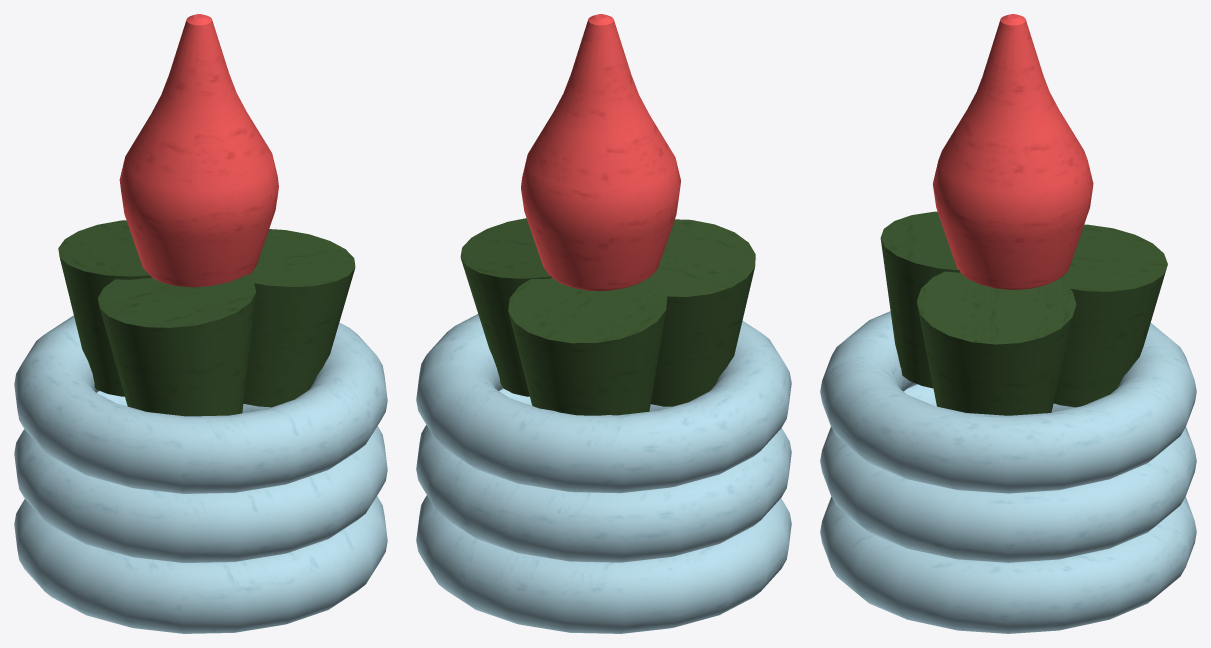
File: plant1.fbx
3 renders of one model, left to right at view 1: azimuth 30°, elevation 25°; view 2: azimuth 150°, elevation 25°; view 3: azimuth 270°, elevation 25°, orthographic.
Visible parts, largest first — view 1: plant; view 2: plant; view 3: plant.
Boxes of the visible parts, <box> form: plant: <box>14,14,387,633</box>; plant: <box>416,14,791,633</box>; plant: <box>820,14,1196,633</box>.
Size of the model in its own units: 1.36 by 2.2 by 1.36.
